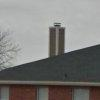Chimney: (44, 17, 65, 65)
